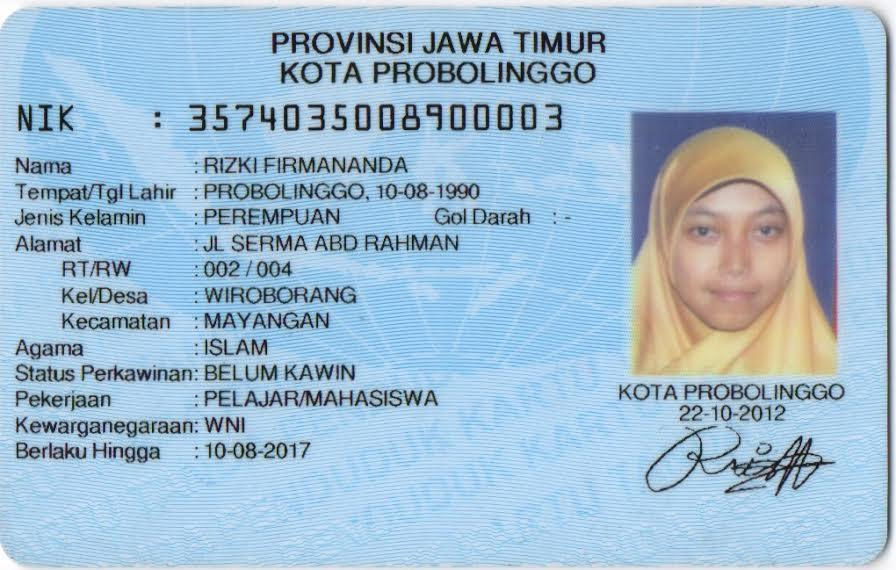ID-card: (5, 11, 884, 557)
